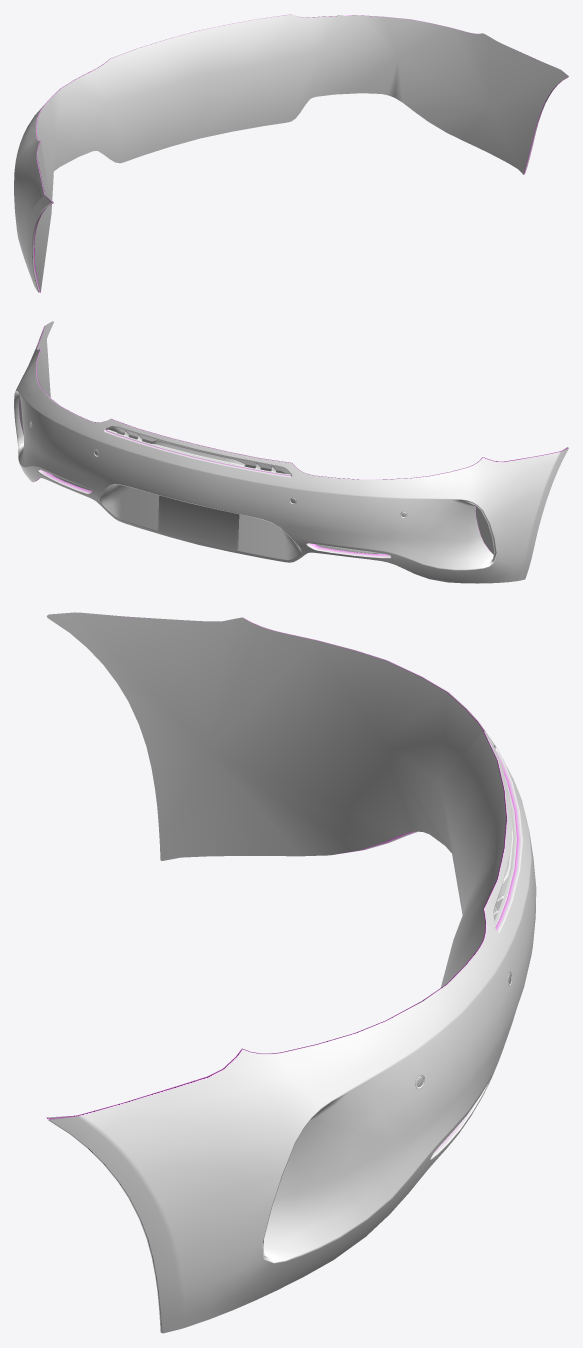
Rendered from Car_MercedesBenz_AMGGT_2015_BumperR_SetGTR.fbx.
3 renders of one model, top to bottom at view 1: azimuth 30°, elevation 25°; view 2: azimuth 150°, elevation 25°; view 3: azimuth 270°, elevation 25°, orthographic. The views are drawn at different scales.
Parts seen in each view (by area): view 1: BumperR 6; view 2: BumperR 6; view 3: BumperR 6.
Part boxes in pixels (bbox=[...]): BumperR 6: bbox=[14, 14, 568, 292]; BumperR 6: bbox=[14, 321, 568, 583]; BumperR 6: bbox=[46, 612, 536, 1333].
Bounding box in the file's own units: 1.99 × 0.511 × 0.8153.
